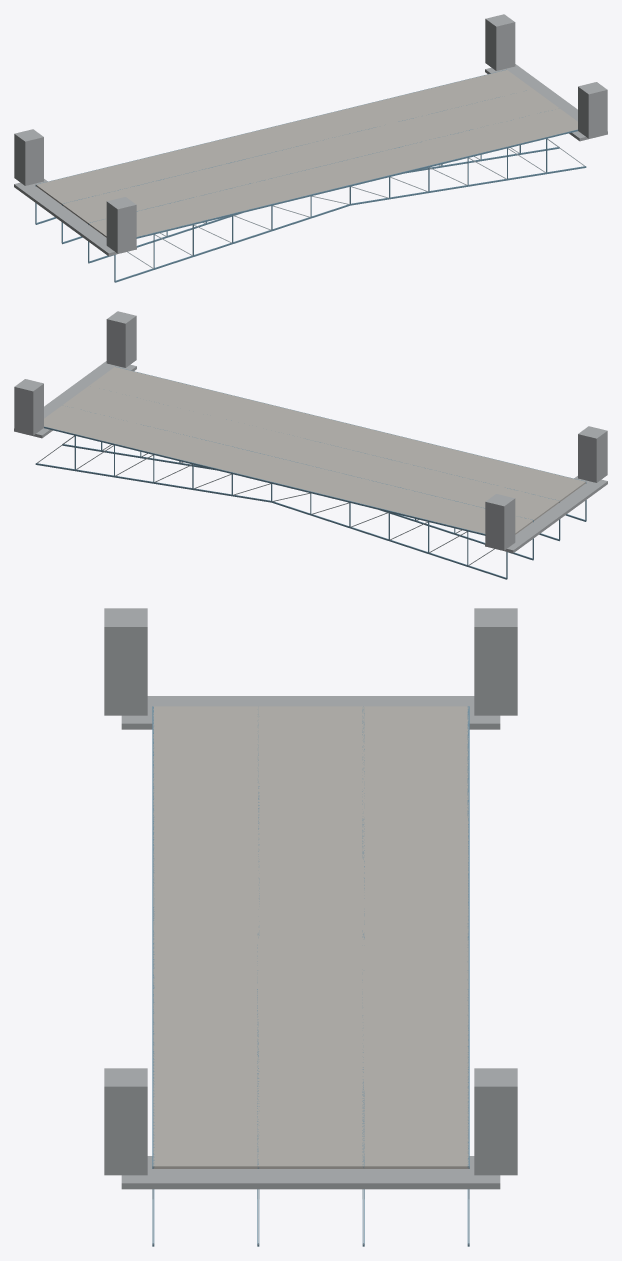
File: bridge.glb
The picture shows the model from 3 angles, top to bottom: view 1: azimuth 30°, elevation 25°; view 2: azimuth 150°, elevation 25°; view 3: azimuth 270°, elevation 25°; orthographic projection. The views are drawn at different scales.
Visible parts, largest first — view 1: deck_002, deck_001, bearing_block_001, bridge_house_001, bridge_house_004, bridge_house_002, bridge_house_003, bearing_block_002, leaf_upper_chord_005, leaf_upper_chord_001; view 2: deck_002, deck_001, bearing_block_001, bridge_house_002, bridge_house_003, bridge_house_001, bridge_house_004, bearing_block_002, leaf_upper_chord_008, leaf_upper_chord_004; view 3: deck_002, deck_001, bearing_block_002, bridge_house_001, bridge_house_002, bridge_house_003, bridge_house_004, bearing_block_001.
Boxes of the visible parts, x1,y1,x2,y2 form: deck_002: (272,70,577,184); deck_001: (36,127,349,237); bearing_block_001: (14,179,136,256); bridge_house_001: (106,197,136,253); bridge_house_004: (485,14,515,70); bridge_house_002: (14,129,43,185); bridge_house_003: (578,82,607,138); bearing_block_002: (485,64,607,141); leaf_upper_chord_005: (350,129,577,186); leaf_upper_chord_001: (136,185,350,238); deck_002: (44,367,349,481); deck_001: (272,424,585,534); bearing_block_001: (485,476,607,553); bridge_house_002: (485,494,515,550); bridge_house_003: (106,311,136,367); bridge_house_001: (578,426,607,482); bridge_house_004: (14,379,43,435); bearing_block_002: (14,361,136,438); leaf_upper_chord_008: (44,426,271,483); leaf_upper_chord_004: (271,482,485,535); deck_002: (153,936,468,1168); deck_001: (153,706,468,936); bearing_block_002: (121,1156,500,1189); bridge_house_001: (104,608,147,715); bridge_house_002: (474,608,517,715); bridge_house_003: (104,1068,147,1175); bridge_house_004: (474,1068,517,1175); bearing_block_001: (121,696,500,729).
Size of the model in its own units: 106 by 17.15 by 38.
